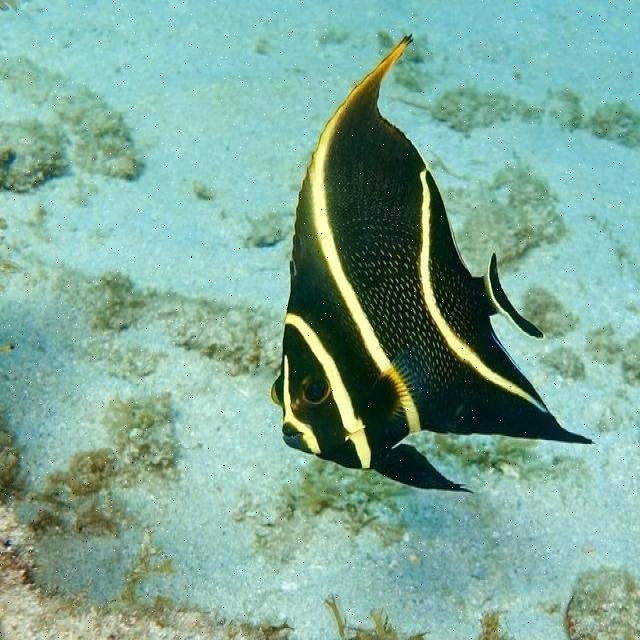fish: (270, 30, 596, 496)
